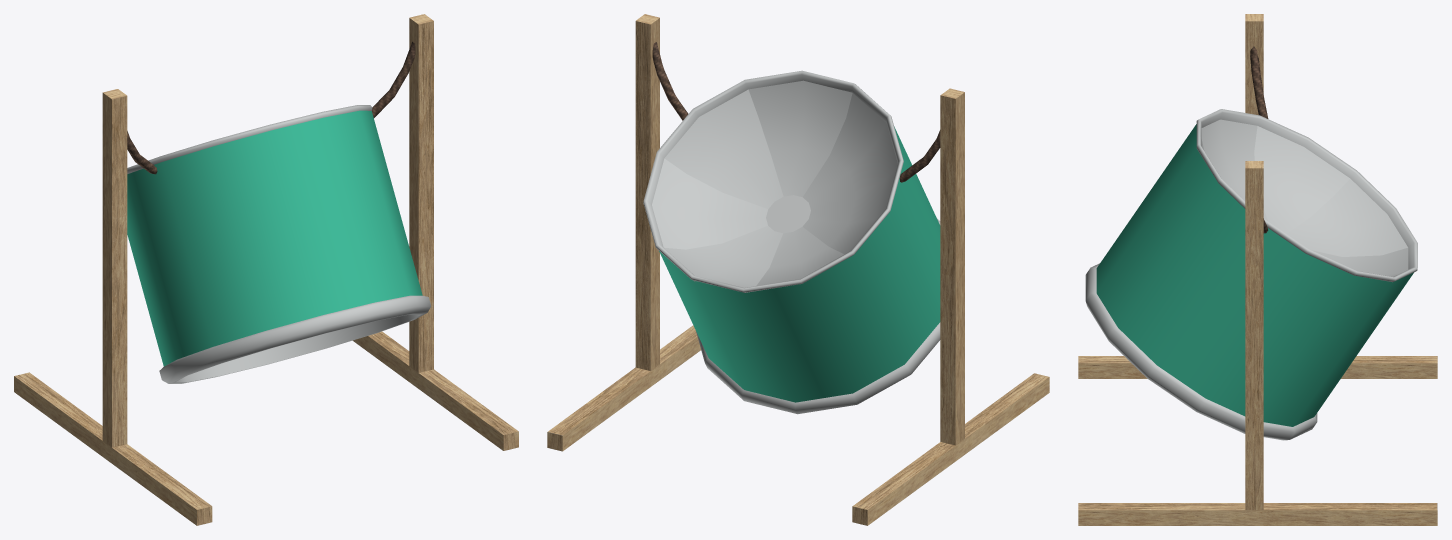
The model's file is steel_drum.fbx.
3 views of the same model, side by side, from view 1: azimuth 30°, elevation 25°; view 2: azimuth 150°, elevation 25°; view 3: azimuth 270°, elevation 25° (orthographic).
Visible parts, largest first — view 1: Steel_Drum; view 2: Steel_Drum; view 3: Steel_Drum.
Boxes of the visible parts, x1=… form: Steel_Drum: x1=14, y1=14, x2=518, y2=525; Steel_Drum: x1=547, y1=14, x2=1049, y2=525; Steel_Drum: x1=1078, y1=14, x2=1437, y2=525.
Size of the model in its own units: 100 by 108 by 98.53.
Materials: 1 (1 with a texture image).
